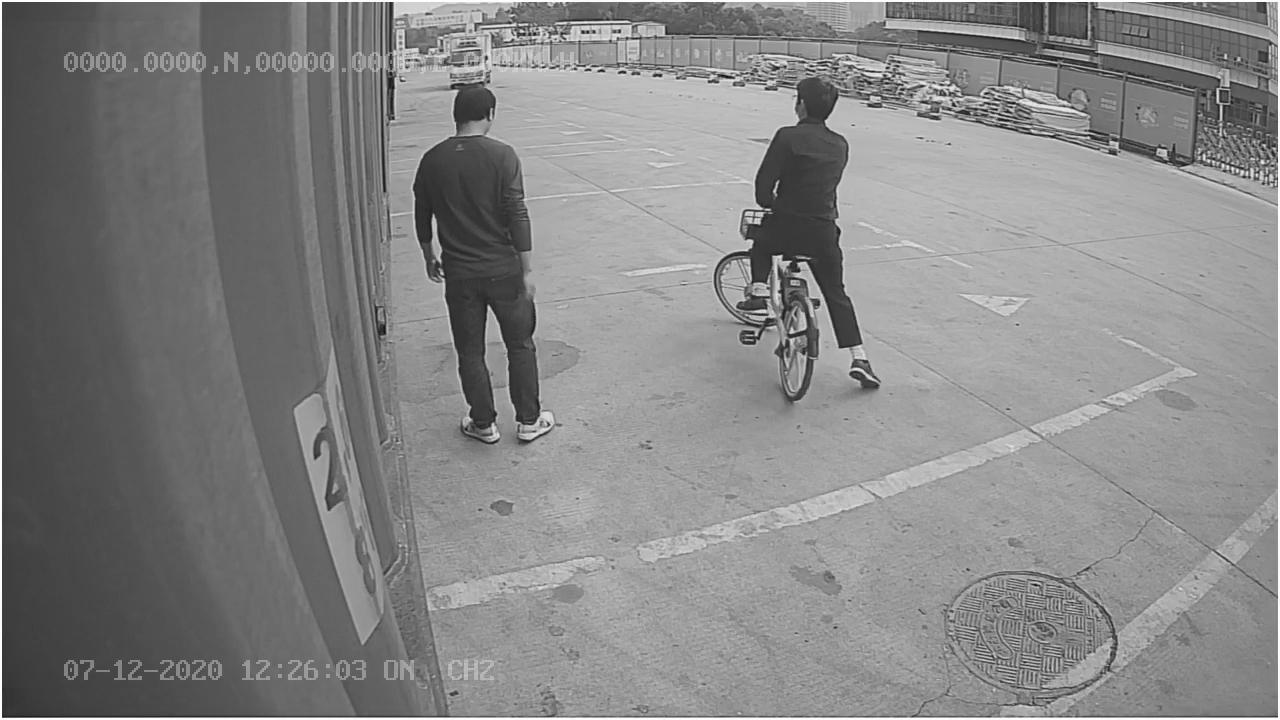person: (411, 84, 561, 451)
